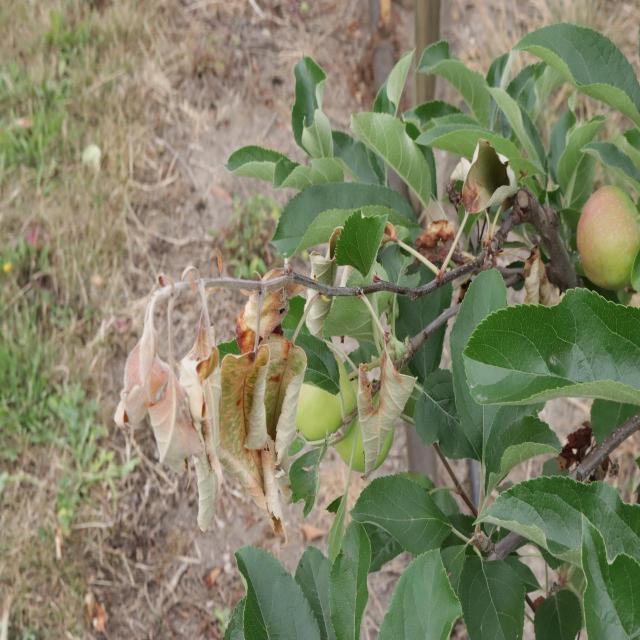-FireBlight-: (118, 297, 409, 498)
